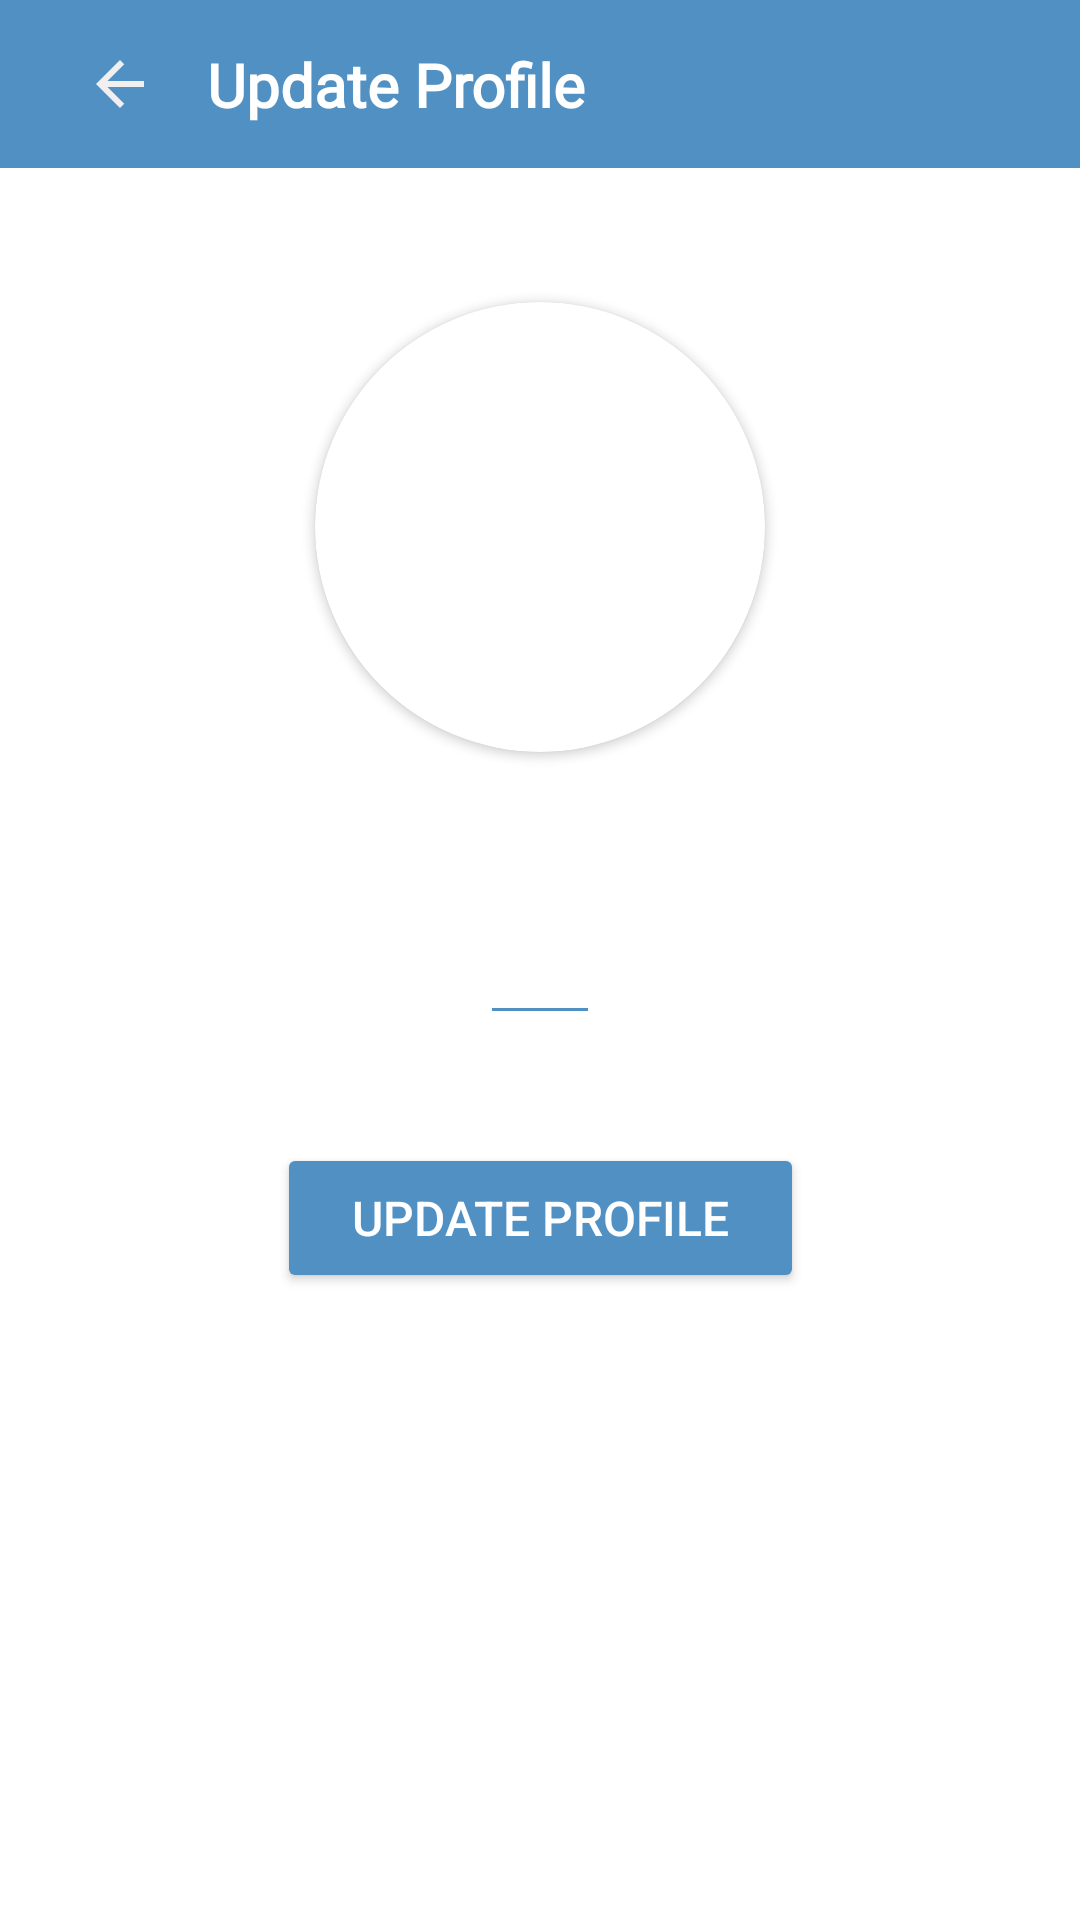

Icon click points for this 1080px×1920px phone screenshot, format (x,y):
arrow back: (120,84)
